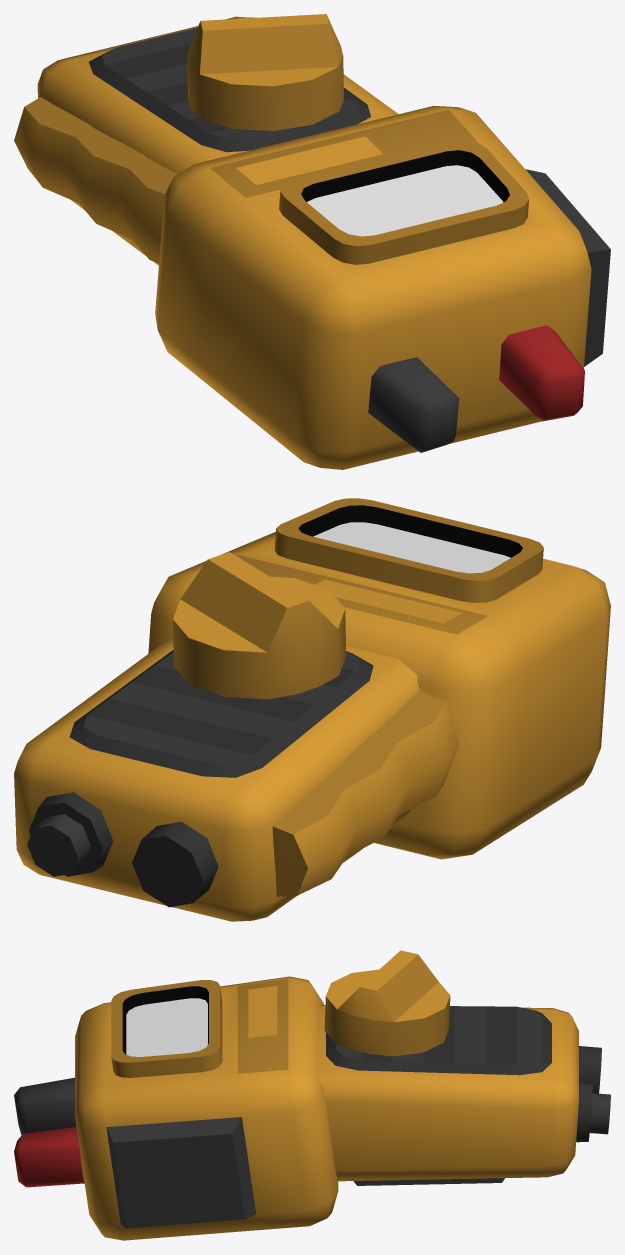
Rendered from multitool.fbx.
3 views of the same model, one above another, from view 1: azimuth 30°, elevation 25°; view 2: azimuth 150°, elevation 25°; view 3: azimuth 270°, elevation 25° (orthographic). The views are drawn at different scales.
Parts seen in each view (by area): view 1: MultiTool; view 2: MultiTool; view 3: MultiTool.
Boxes of the visible parts, left/top/right/bottom form: MultiTool: left=14, top=14, right=610, bottom=469; MultiTool: left=14, top=498, right=610, bottom=921; MultiTool: left=14, top=950, right=610, bottom=1240.
Bounding box in the file's own units: 0.2375 × 0.1967 × 0.4638.
